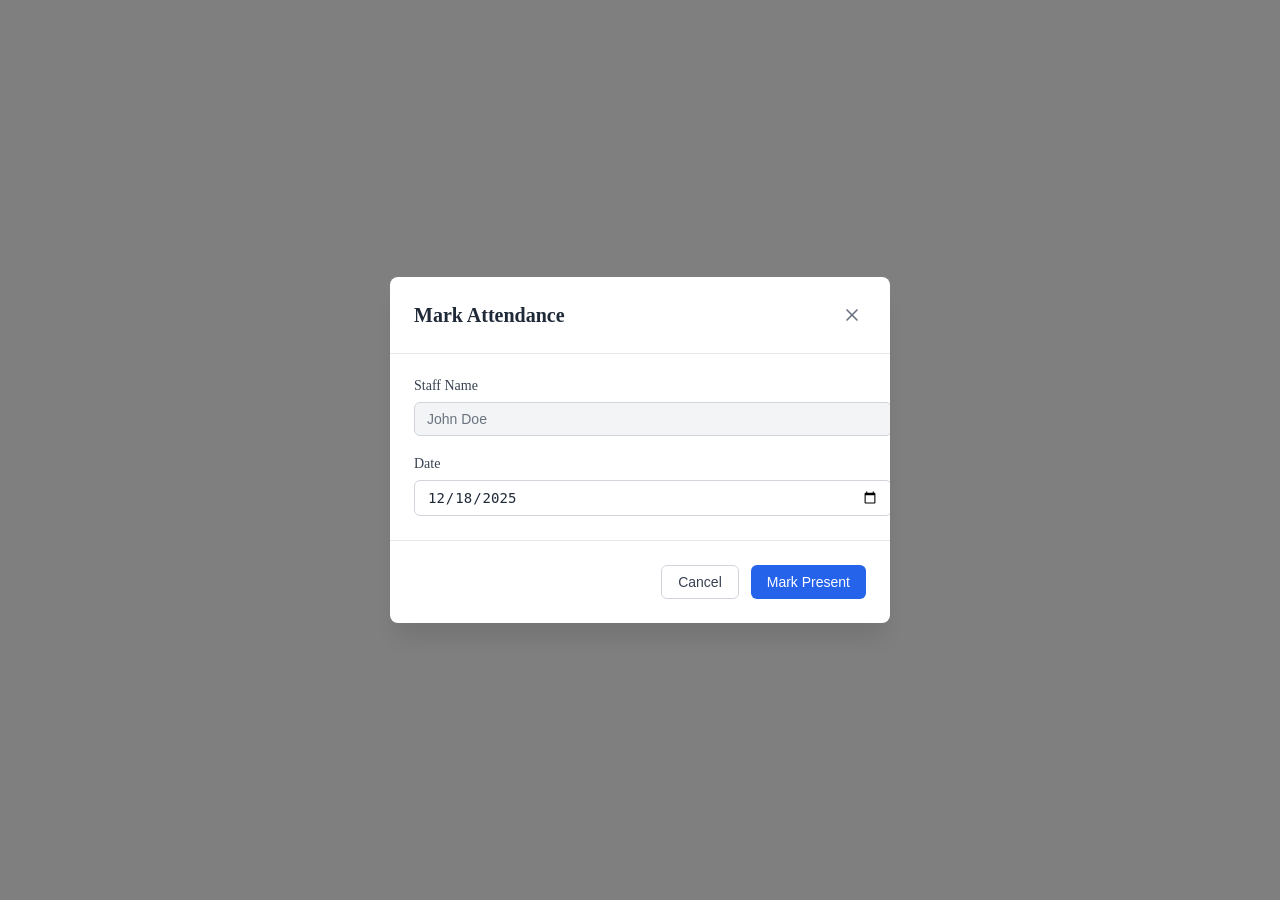
MarkAttendanceModal Component › disables submit button during loading
Click the button "Mark Present" at (808, 582), box left=751, top=565, right=866, bottom=599
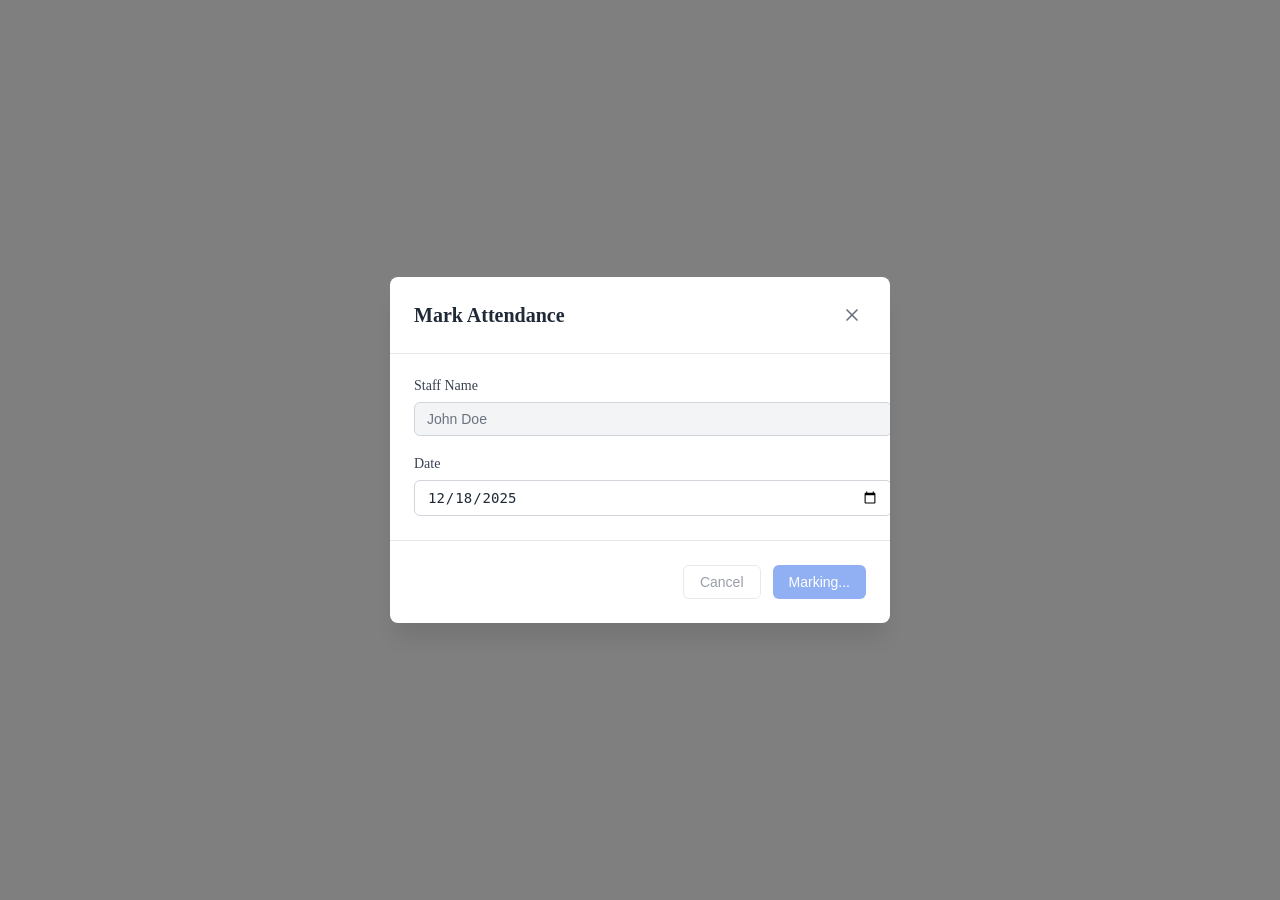
Check: the button "Marking..." is disabled, box left=772, top=565, right=866, bottom=599
